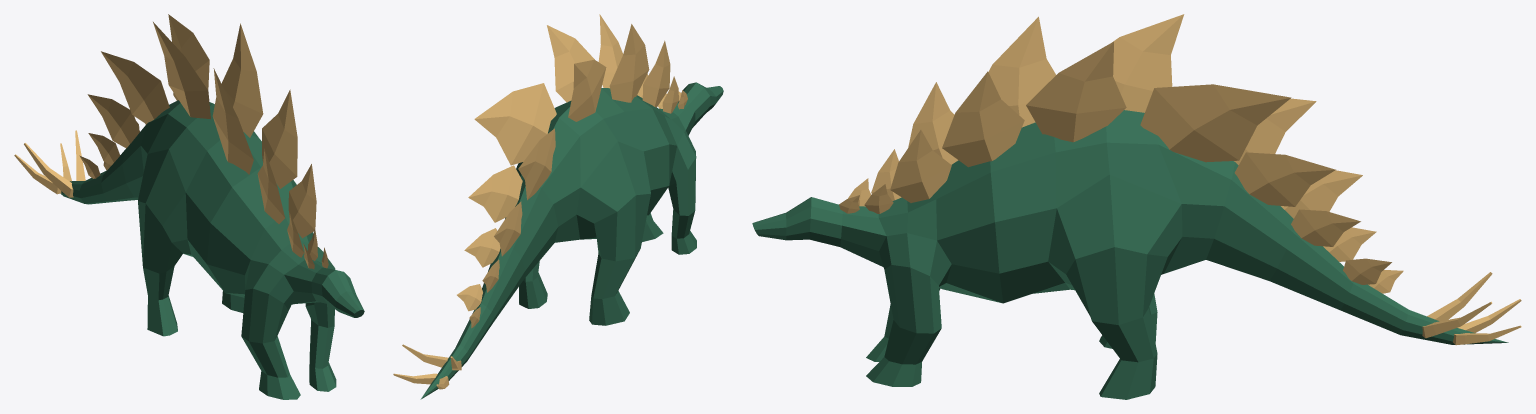
Rendered from 065-dino-rec.fbx.
3 views of the same model, side by side, from view 1: azimuth 30°, elevation 25°; view 2: azimuth 150°, elevation 25°; view 3: azimuth 270°, elevation 25° (orthographic). The views are drawn at different scales.
Visible parts, largest first — view 1: Plane, Vert.001, Vert.012, Vert.006, Vert.011, Vert.010, Vert.007, Vert.013, Vert.002, Vert.016, Vert.019, Vert.020 (+2 smaller); view 2: Plane, Vert.002, Vert.010, Vert.003, Vert.001, Vert.011, Vert.012, Vert.016, Vert.006, Vert.013, Vert.004, Vert.019 (+4 smaller); view 3: Plane, Vert.002, Vert.001, Vert.006, Vert.011, Vert.010, Vert.003, Vert.007, Vert.012, Vert.016, Vert.004, Vert.013 (+5 smaller).
Boxes of the visible parts, x1,y1,x2,y2 form: Plane: (61, 100, 364, 399); Vert.001: (221, 23, 263, 137); Vert.012: (101, 51, 169, 123); Vert.006: (262, 89, 297, 188); Vert.011: (153, 22, 210, 119); Vert.010: (212, 68, 253, 174); Vert.007: (288, 164, 316, 238); Vert.013: (87, 94, 139, 148); Vert.002: (168, 14, 209, 100); Vert.016: (257, 149, 284, 223); Vert.019: (24, 130, 85, 197); Vert.020: (14, 143, 71, 194); Plane: (420, 82, 723, 399); Vert.002: (474, 83, 556, 165); Vert.010: (609, 24, 649, 102); Vert.003: (468, 165, 522, 222); Vert.001: (547, 25, 594, 102); Vert.011: (568, 59, 606, 121); Vert.012: (518, 128, 555, 200); Vert.016: (642, 40, 670, 107); Vert.006: (598, 14, 623, 88); Vert.013: (494, 201, 522, 256); Vert.004: (464, 228, 500, 267); Vert.019: (402, 344, 461, 370); Plane: (752, 110, 1508, 399); Vert.002: (1140, 84, 1291, 162); Vert.001: (1026, 41, 1126, 142); Vert.006: (942, 71, 1024, 167); Vert.011: (1113, 14, 1184, 112); Vert.010: (988, 16, 1055, 127); Vert.003: (1234, 152, 1335, 206); Vert.007: (890, 130, 951, 202); Vert.012: (1234, 98, 1316, 164); Vert.016: (908, 82, 958, 164); Vert.004: (1291, 209, 1360, 246); Vert.013: (1281, 170, 1362, 218).
Size of what is drawn, in the model's own units: 139 by 300 by 608.
